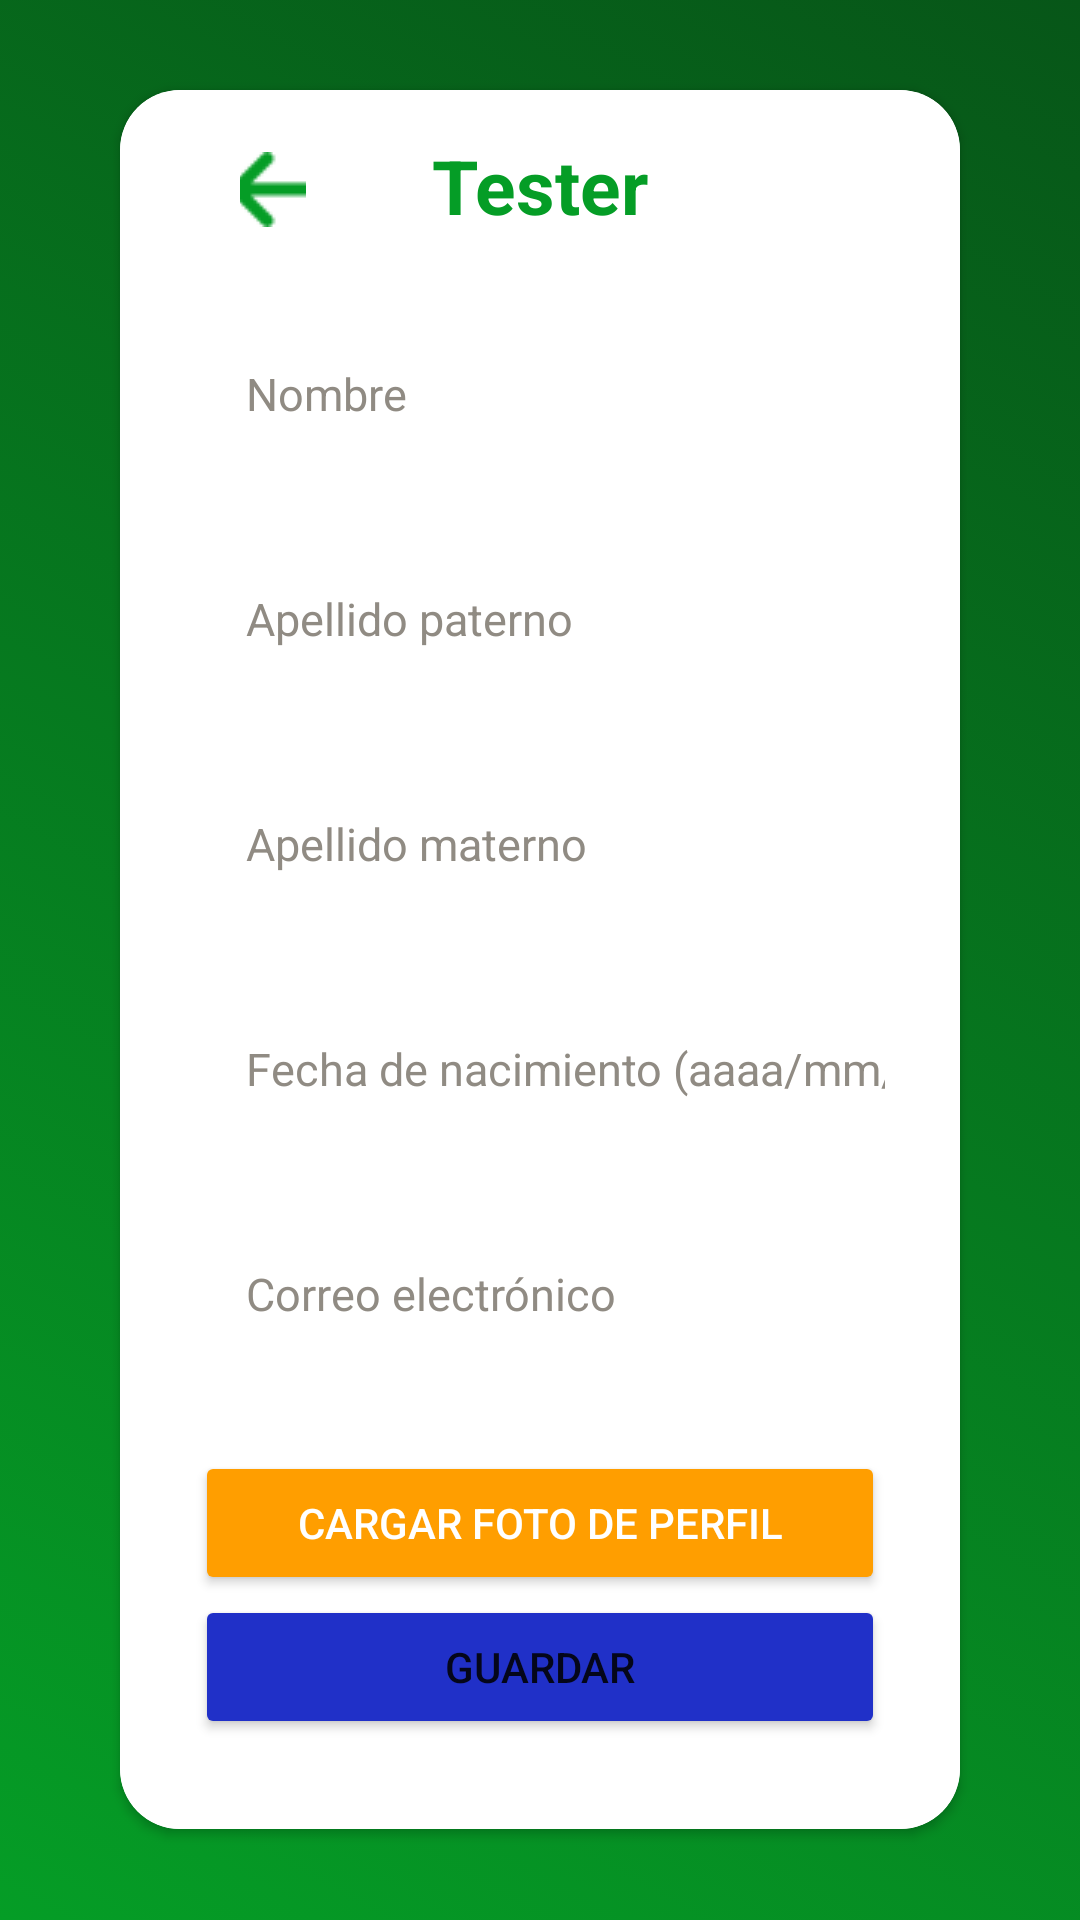

Icons on this 1080w x 1920h Android screen, each with its box as (left=x1, top=y1, right=x2, bottom=y2):
vectorback: (left=240, top=152, right=306, bottom=227)
